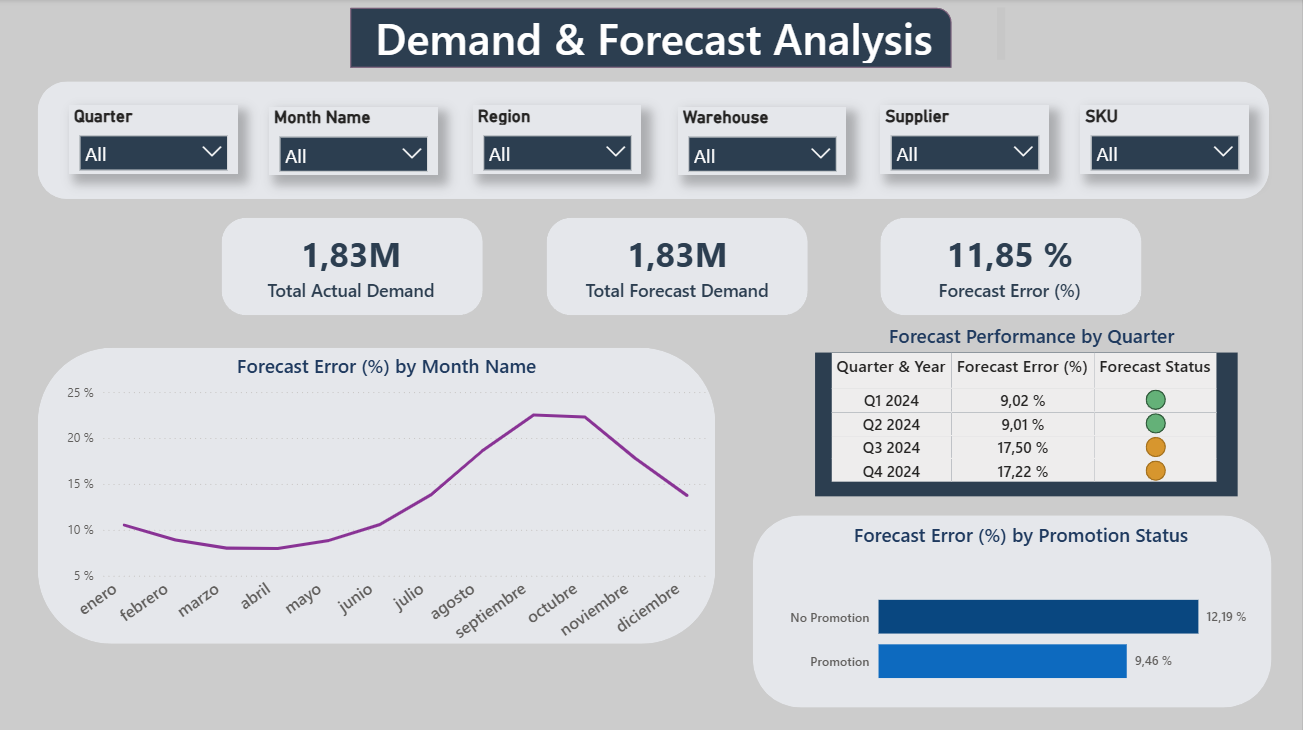

This screenshot's page, from the dashboard's own definition file:
{"tool":"powerbi","page":{"name":"Demand & Forecast Analysis","canvas":[1280,720],"ordinal":3},"visuals":[{"type":"shape","box":[801.2,347.2,414.7,141.1],"z":500},{"type":"shape","box":[739.9,506.8,509.2,189],"z":1000},{"type":"shape","box":[38,342.3,665,290.8],"z":2000},{"type":"shape","box":[344.8,8.6,590.2,58.9],"z":3000},{"type":"textbox","box":[364.4,3.7,628.2,63.8],"z":4000},{"type":"shape","box":[38,81,1208.6,115.3],"z":5000},{"type":"slicer","title":"Month Name ","fields":{"Values":["date_table.Month Name"]},"box":[265,105.5,165.6,67.5],"z":6000},{"type":"slicer","title":"Quarter","fields":{"Values":["date_table.Quarter & Year"]},"box":[68.7,104.3,165.6,67.5],"z":7000},{"type":"slicer","title":"Region","fields":{"Values":["supply_chain.region"]},"box":[465,104.3,165.6,67.5],"z":8000},{"type":"slicer","title":"Warehouse","fields":{"Values":["supply_chain.warehouse_id"]},"box":[666.3,105.5,165.6,67.5],"z":9000},{"type":"slicer","title":"Supplier","fields":{"Values":["supply_chain.supplier_id"]},"box":[865,104.3,165.6,67.5],"z":10000},{"type":"slicer","title":"SKU","fields":{"Values":["supply_chain.sku_id"]},"box":[1061.4,104.3,165.6,67.5],"z":11000},{"type":"lineChart","fields":{"Category":["date_table.Month Name"],"Y":["Measure_Table.Forecast Error (%)"]},"box":[60.1,347.2,640.5,303.1],"z":12000},{"type":"barChart","fields":{"Category":["supply_chain.Promotion Status"],"Y":["Measure_Table.Forecast Error (%)"]},"box":[770.6,512.9,465,200],"z":13000},{"type":"shape","box":[218.4,214.7,256.4,95.7],"z":14000},{"type":"shape","box":[537.4,214.7,256.4,95.7],"z":15000},{"type":"shape","box":[865,214.7,256.4,95.7],"z":16000},{"type":"cardVisual","fields":{"Data":["Measure_Table.Total Demand Forecast"]},"box":[530.1,186.5,271.2,150.9],"z":17000},{"type":"cardVisual","fields":{"Data":["Measure_Table.Total Units Sold"]},"box":[209.8,186.5,271.2,150.9],"z":18000},{"type":"cardVisual","fields":{"Data":["Measure_Table.Forecast Error (%)"]},"box":[856.4,186.5,271.2,150.9],"z":19000},{"type":"tableEx","title":"Forecast Performance by Quarter","fields":{"Values":["date_table.Quarter & Year","Measure_Table.Forecast Error (%)","Measure_Table.Forecast Status"]},"box":[811,317.8,404.9,189],"z":20000}]}

Visuals, with their boxes in screenshot pixels (x1, y1, x2, y2), scaled from the page's 1280x720 canvas onto the 1303x730 screenshot:
shape: [816,352,1238,495]
shape: [753,514,1272,705]
shape: [39,347,716,642]
shape: [351,9,952,68]
textbox: [371,4,1010,68]
shape: [39,82,1269,199]
"Month Name " slicer: [270,107,438,175]
"Quarter" slicer: [70,106,239,174]
"Region" slicer: [473,106,642,174]
"Warehouse" slicer: [678,107,847,175]
"Supplier" slicer: [881,106,1049,174]
"SKU" slicer: [1080,106,1249,174]
lineChart - date_table.Month Name x Measure_Table.Forecast Error (%): [61,352,713,659]
barChart - supply_chain.Promotion Status x Measure_Table.Forecast Error (%): [784,520,1258,723]
shape: [222,218,483,315]
shape: [547,218,808,315]
shape: [881,218,1142,315]
cardVisual - Measure_Table.Total Demand Forecast: [540,189,816,342]
cardVisual - Measure_Table.Total Units Sold: [214,189,490,342]
cardVisual - Measure_Table.Forecast Error (%): [872,189,1148,342]
"Forecast Performance by Quarter" tableEx: [826,322,1238,514]
